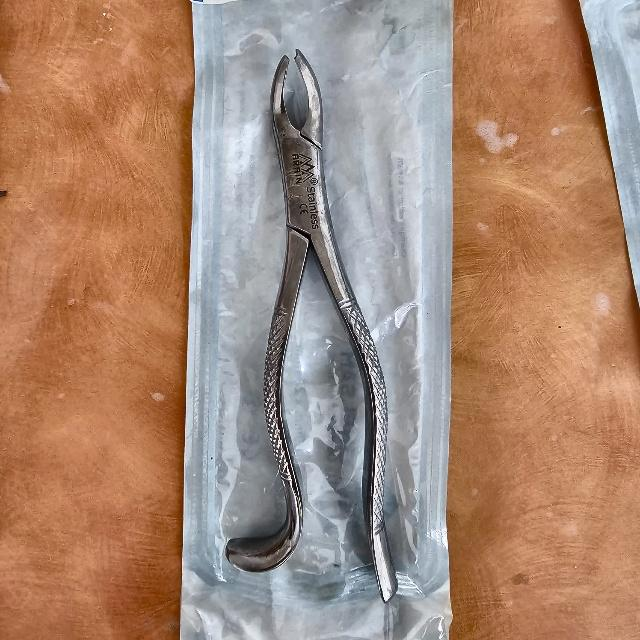forceps: (226, 50, 399, 603)
